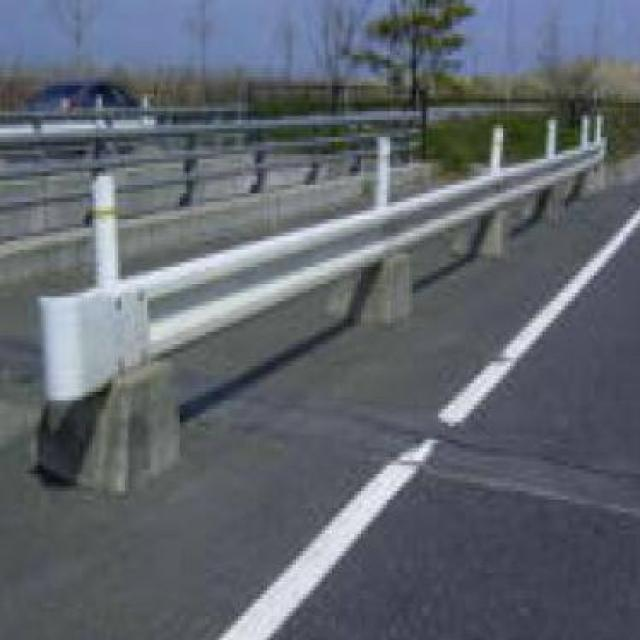Guard rail: (37, 116, 608, 478)
